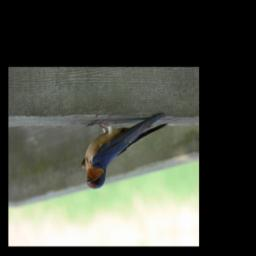Swallow: (77, 109, 186, 192)
